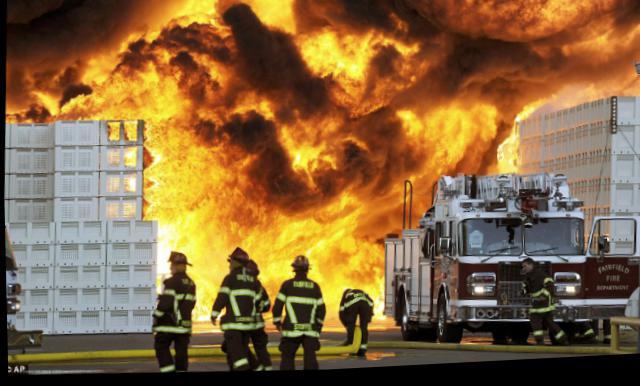fire: (32, 61, 148, 131), (174, 147, 221, 254), (143, 74, 177, 221), (298, 38, 375, 85), (494, 108, 528, 177), (166, 0, 220, 36), (251, 0, 303, 36), (429, 113, 489, 142), (316, 224, 341, 283), (344, 248, 378, 291), (280, 218, 315, 256), (266, 218, 283, 296), (223, 222, 264, 254), (194, 254, 213, 321), (395, 112, 430, 142), (544, 0, 591, 22), (283, 147, 320, 169), (156, 217, 175, 256)
smoke: (435, 41, 520, 102), (5, 0, 163, 32), (304, 0, 439, 32), (236, 33, 299, 99), (521, 59, 621, 93), (339, 151, 409, 193), (225, 124, 273, 155), (250, 158, 283, 199), (626, 0, 640, 22)
